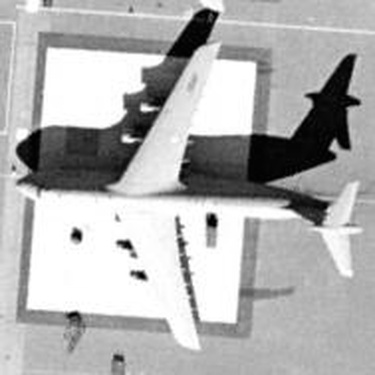airplane: (5, 29, 363, 357)
